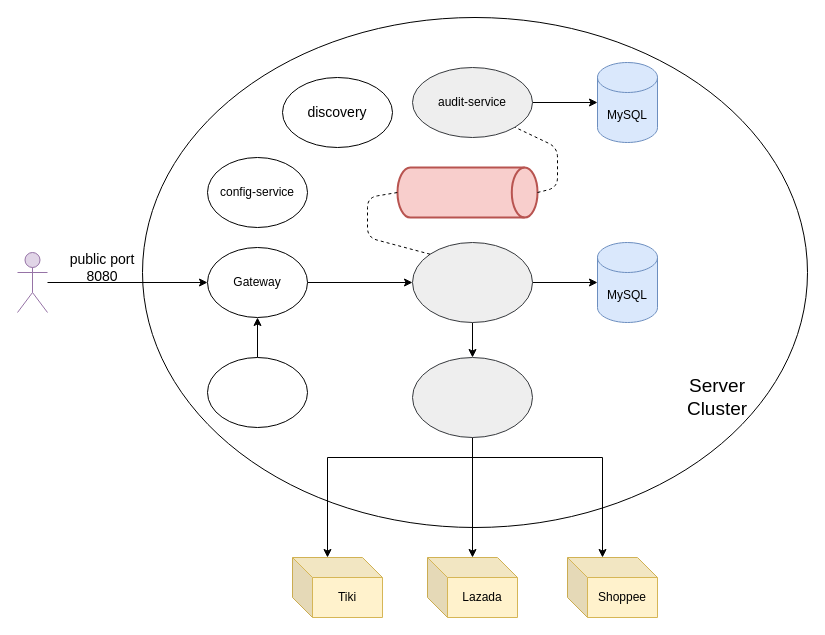
Some shapes in this 825 by 635 pixel diagram are drawn without their labels. The centre of each missing label's shape, as x and y in pixels:
"Client" goes at pixel 32 282.
"crawler-service" goes at pixel 472 397.
"Identity server (Okta)" goes at pixel 257 392.
"Message Broker (RabbitMQ)" goes at pixel 467 192.
"product-service" goes at pixel 472 282.
